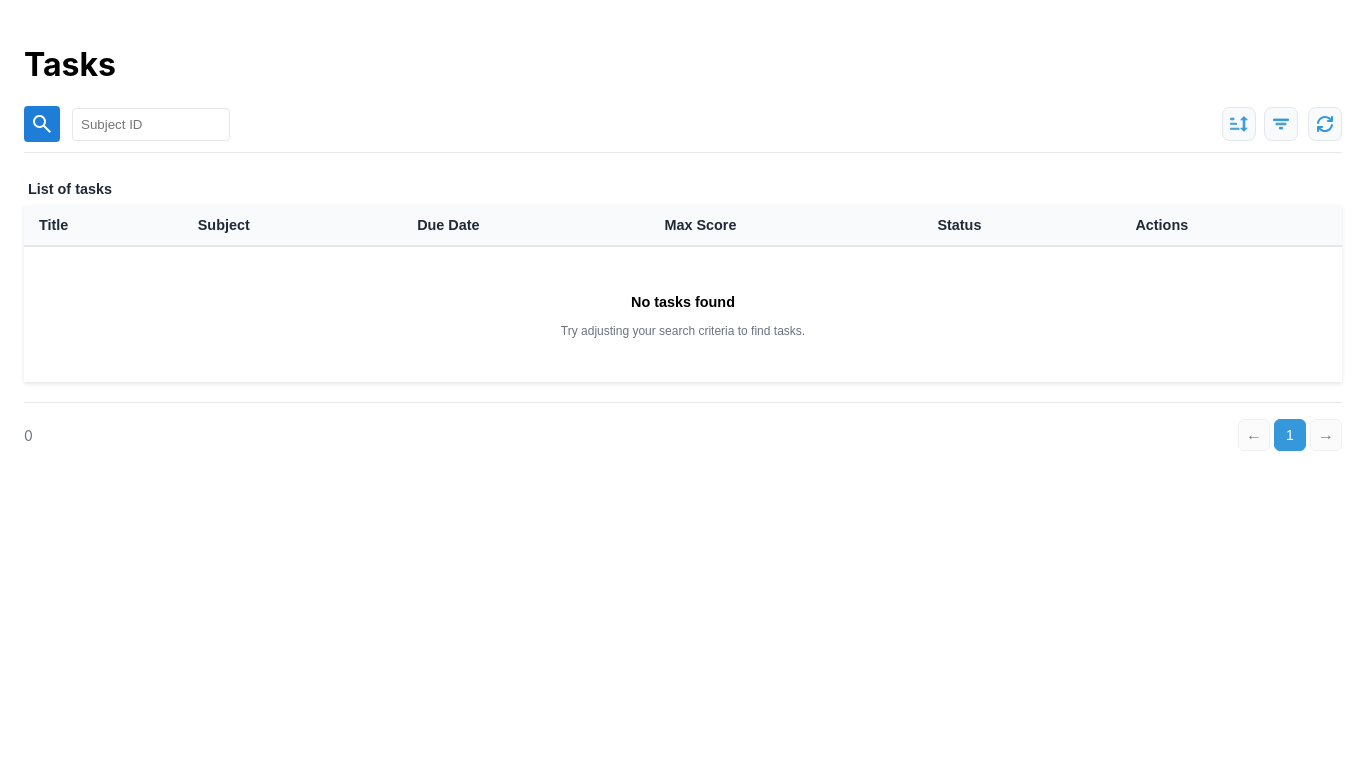
Test: Tasks Filter Modal › renders filter options (search, subject id, status)
# Open filter modal via button with aria-label Filter
Step 1. Click the button named "filter" → [1281, 124], box [1264,107,1298,141]
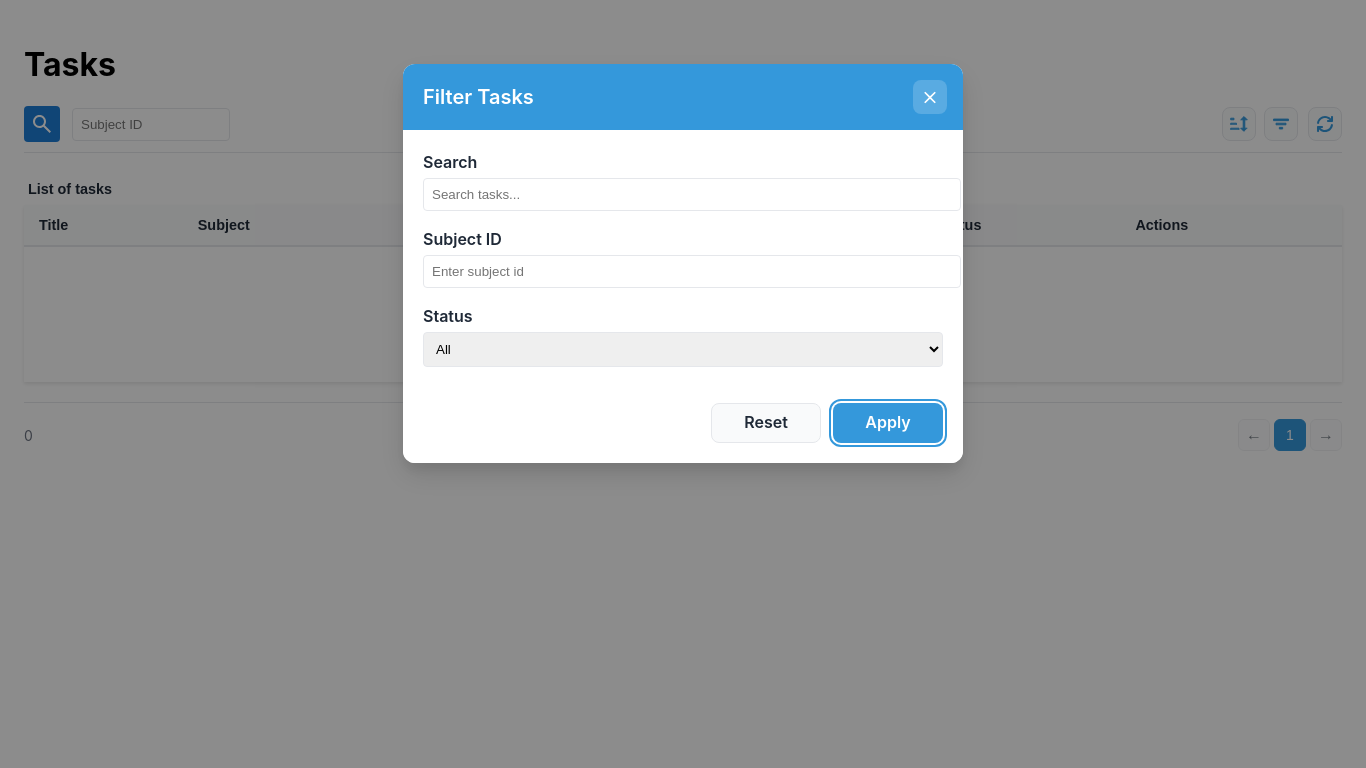
Expected: the field labelled "Search" is shown, [423,178,961,211]
Expected: the field labelled "Subject ID" is shown, [423,255,961,288]
Expected: the dropdown labelled "Status" is shown, [423,332,943,367]
